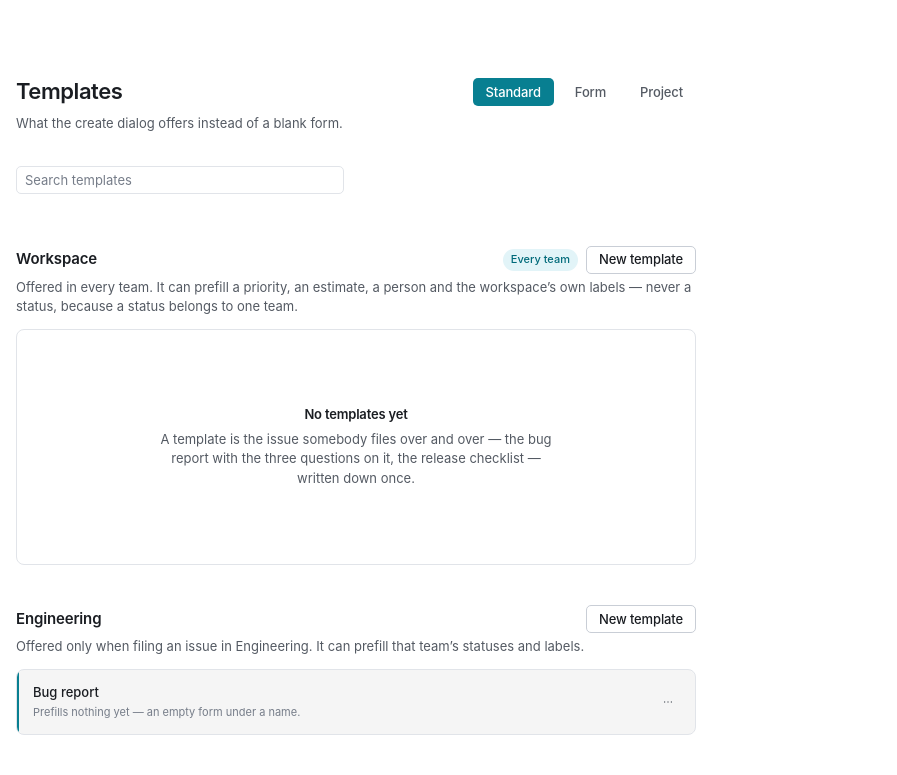
Test: Templates › says the scope cannot be changed, while the choice is still live
Click the button with aria-label "New template for Engineering": click(641, 619) [586,605,696,633]
(page scrolled)
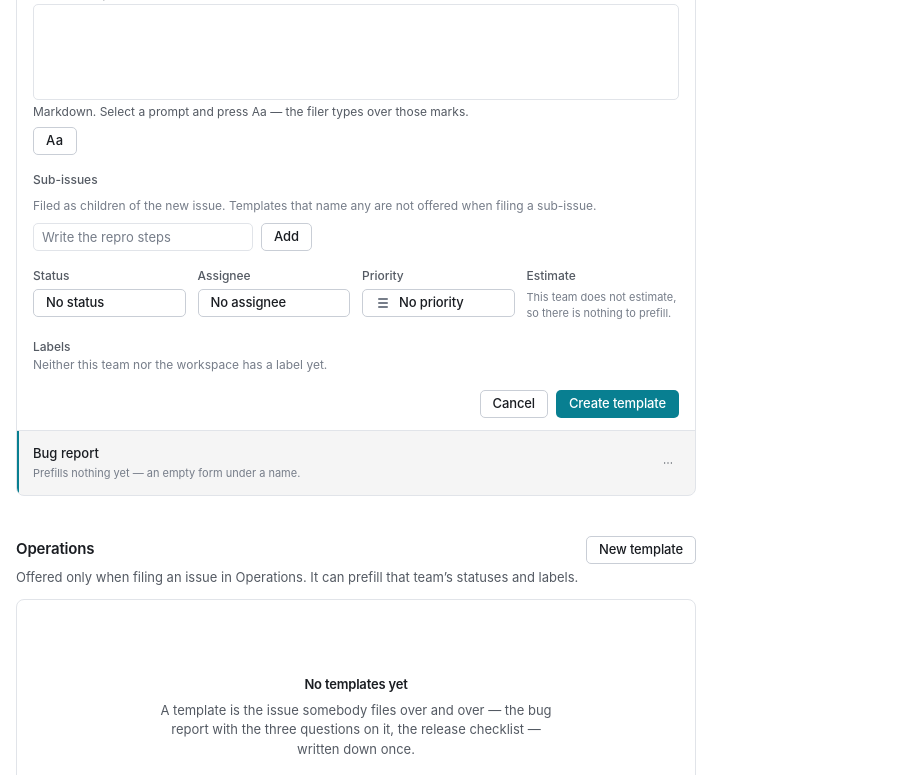
Click the button "Cancel": click(514, 404) [480,390,548,418]
(page scrolled)
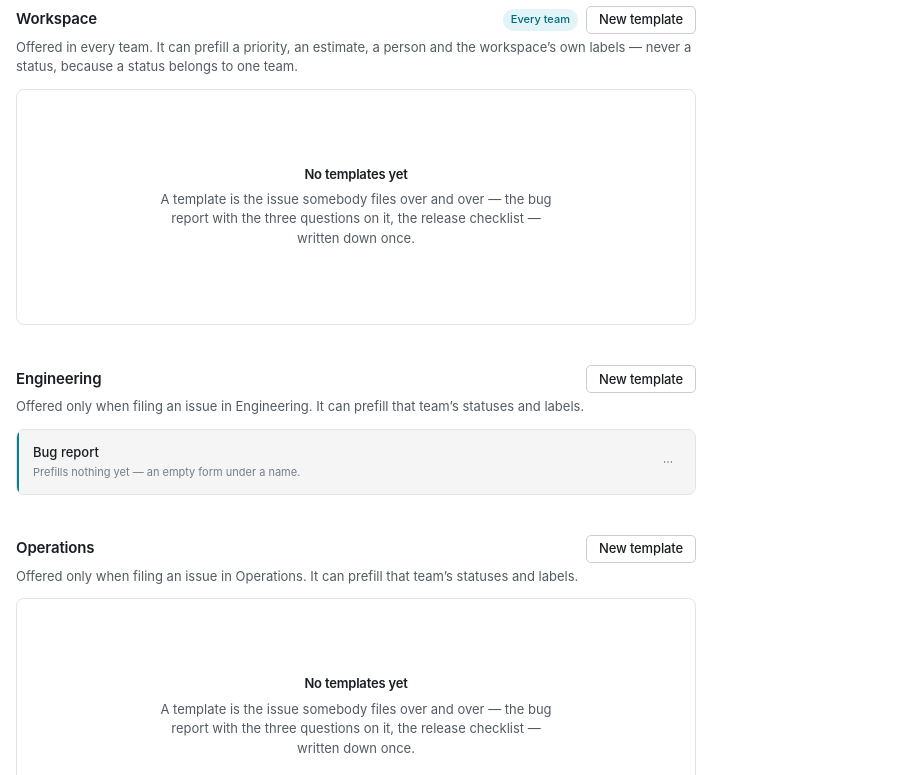
Click the button named "Options for Bug report": click(668, 462) [657,451,679,473]
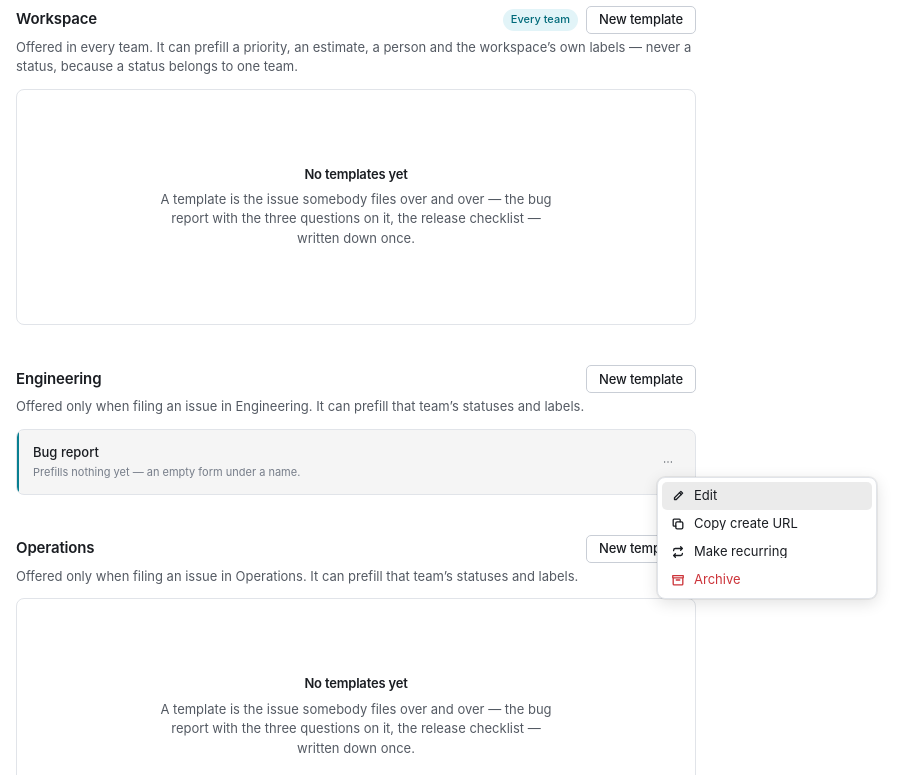
Click the menu item "Edit": click(767, 496) [662,482,872,510]
(page scrolled)
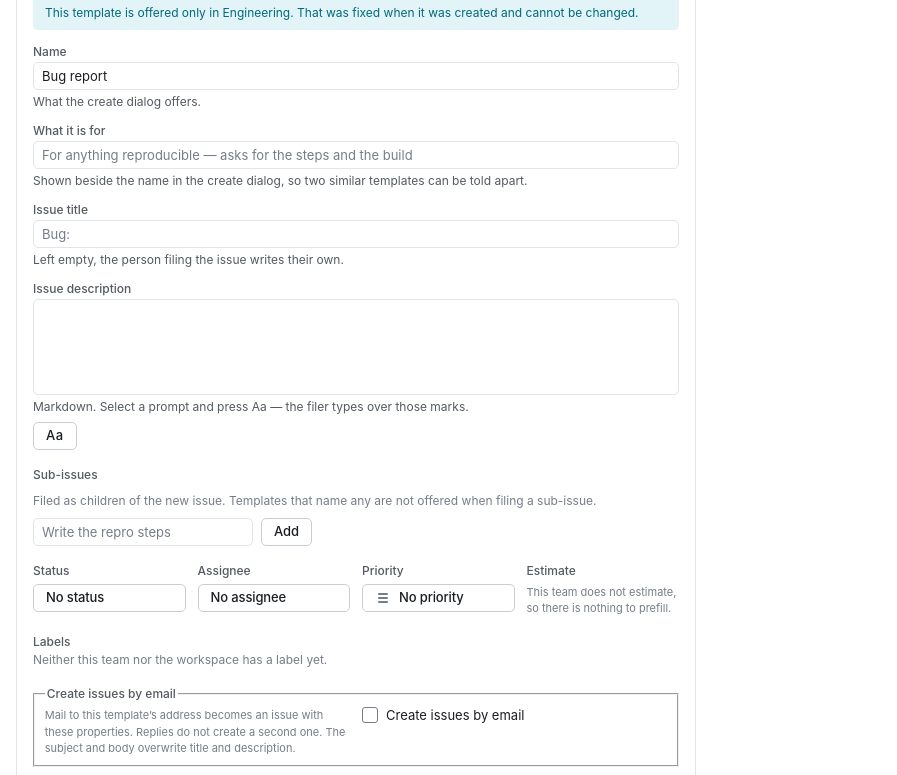
Now the form named "Editing Bug report" shows "cannot be changed", box [45,5,639,20]
